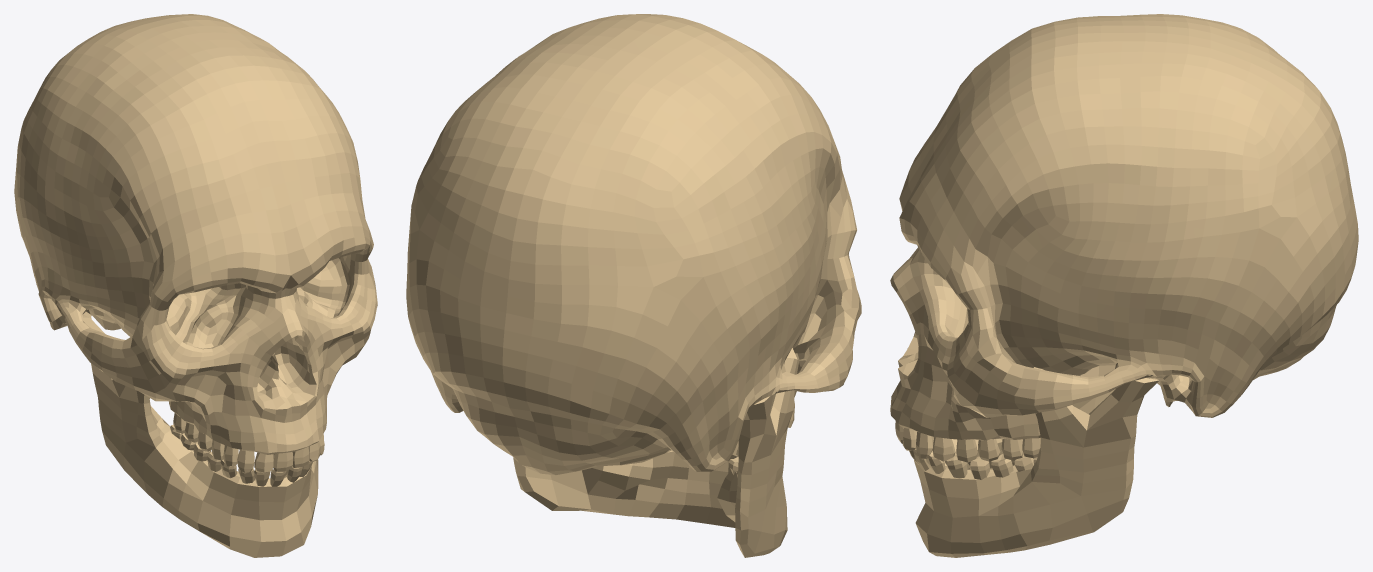
File: skull.gltf
3 renders of one model, left to right at view 1: azimuth 30°, elevation 25°; view 2: azimuth 150°, elevation 25°; view 3: azimuth 270°, elevation 25°, orthographic. The views are drawn at different scales.
Visible parts, largest first — view 1: skull; view 2: skull; view 3: skull.
Boxes of the visible parts, x1,y1,x2,y2 form: skull: [14, 14, 377, 557]; skull: [406, 14, 861, 557]; skull: [890, 14, 1358, 557].
Size of the model in its own units: 15.13 by 24.01 by 19.92.
